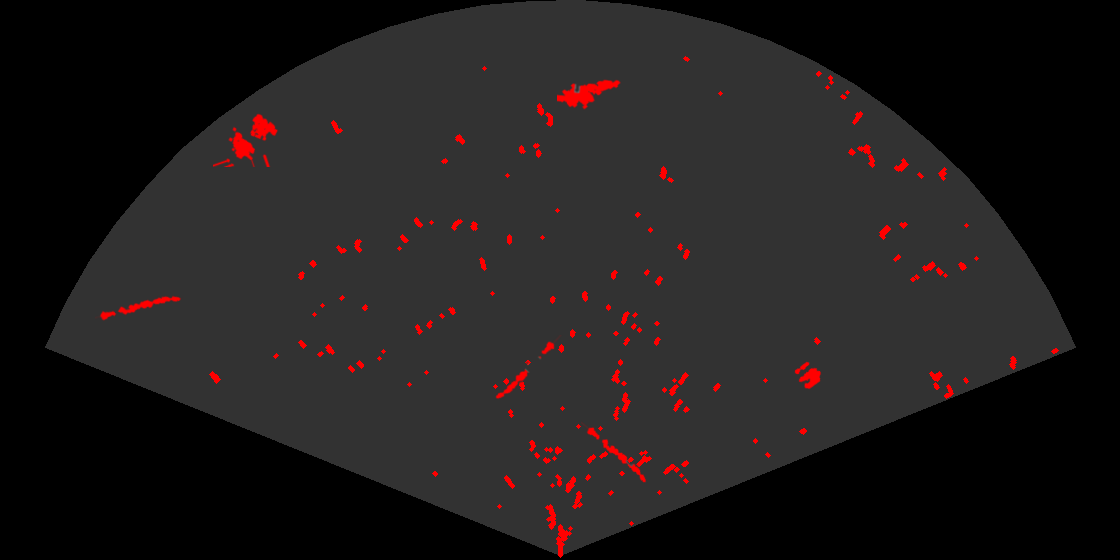ball: (793, 360, 823, 391)
cage: (213, 112, 280, 167)
chain: (494, 335, 563, 400), (581, 420, 648, 484), (95, 294, 183, 322)
frogman: (557, 78, 621, 111)
